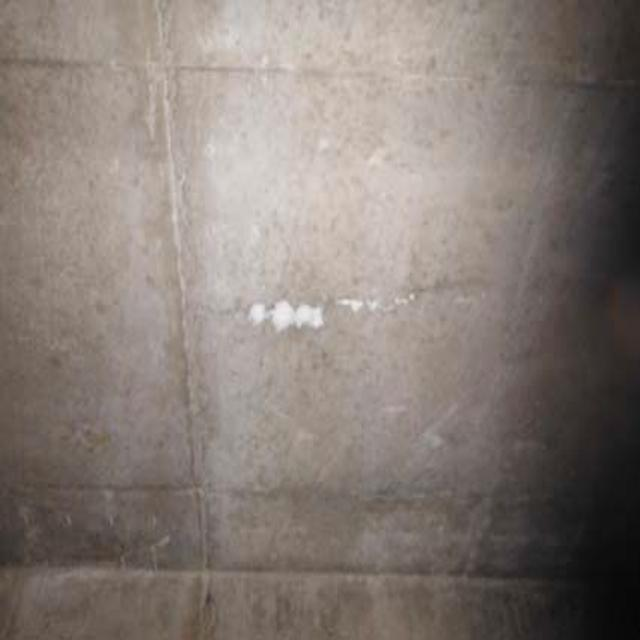freelime: (242, 276, 337, 358)
